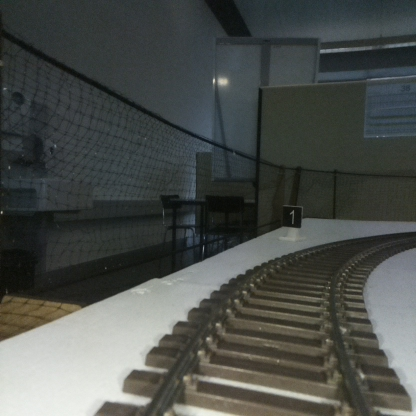black-stop-1: (283, 206, 302, 239)
